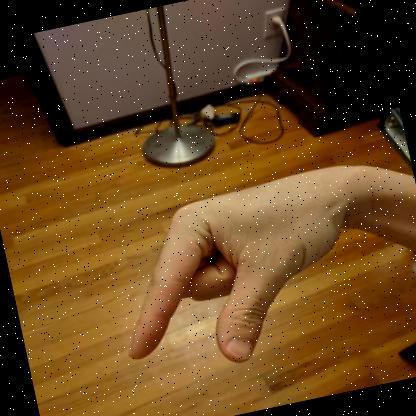Q: (128, 165, 356, 362)
